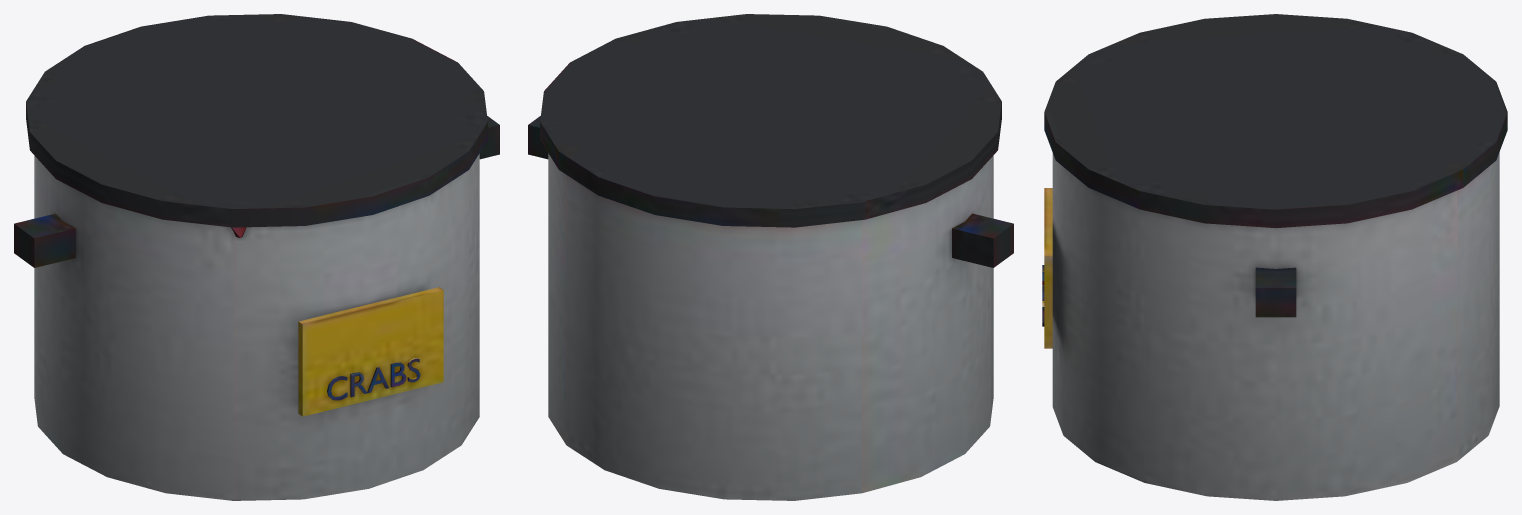
The model's file is olla_cangrejos.glb.
3 views of the same model, side by side, from view 1: azimuth 30°, elevation 25°; view 2: azimuth 150°, elevation 25°; view 3: azimuth 270°, elevation 25° (orthographic).
Parts seen in each view (by area): view 1: olla_cangrejos; view 2: olla_cangrejos; view 3: olla_cangrejos.
Part boxes in pixels (box(x1,y1,x2,y2)): olla_cangrejos: box(14, 14, 499, 500); olla_cangrejos: box(528, 14, 1013, 500); olla_cangrejos: box(1042, 14, 1507, 500).
Size of the model in its own units: 1.32 by 0.8 by 1.14.
Materials: 1 (1 with a texture image).
